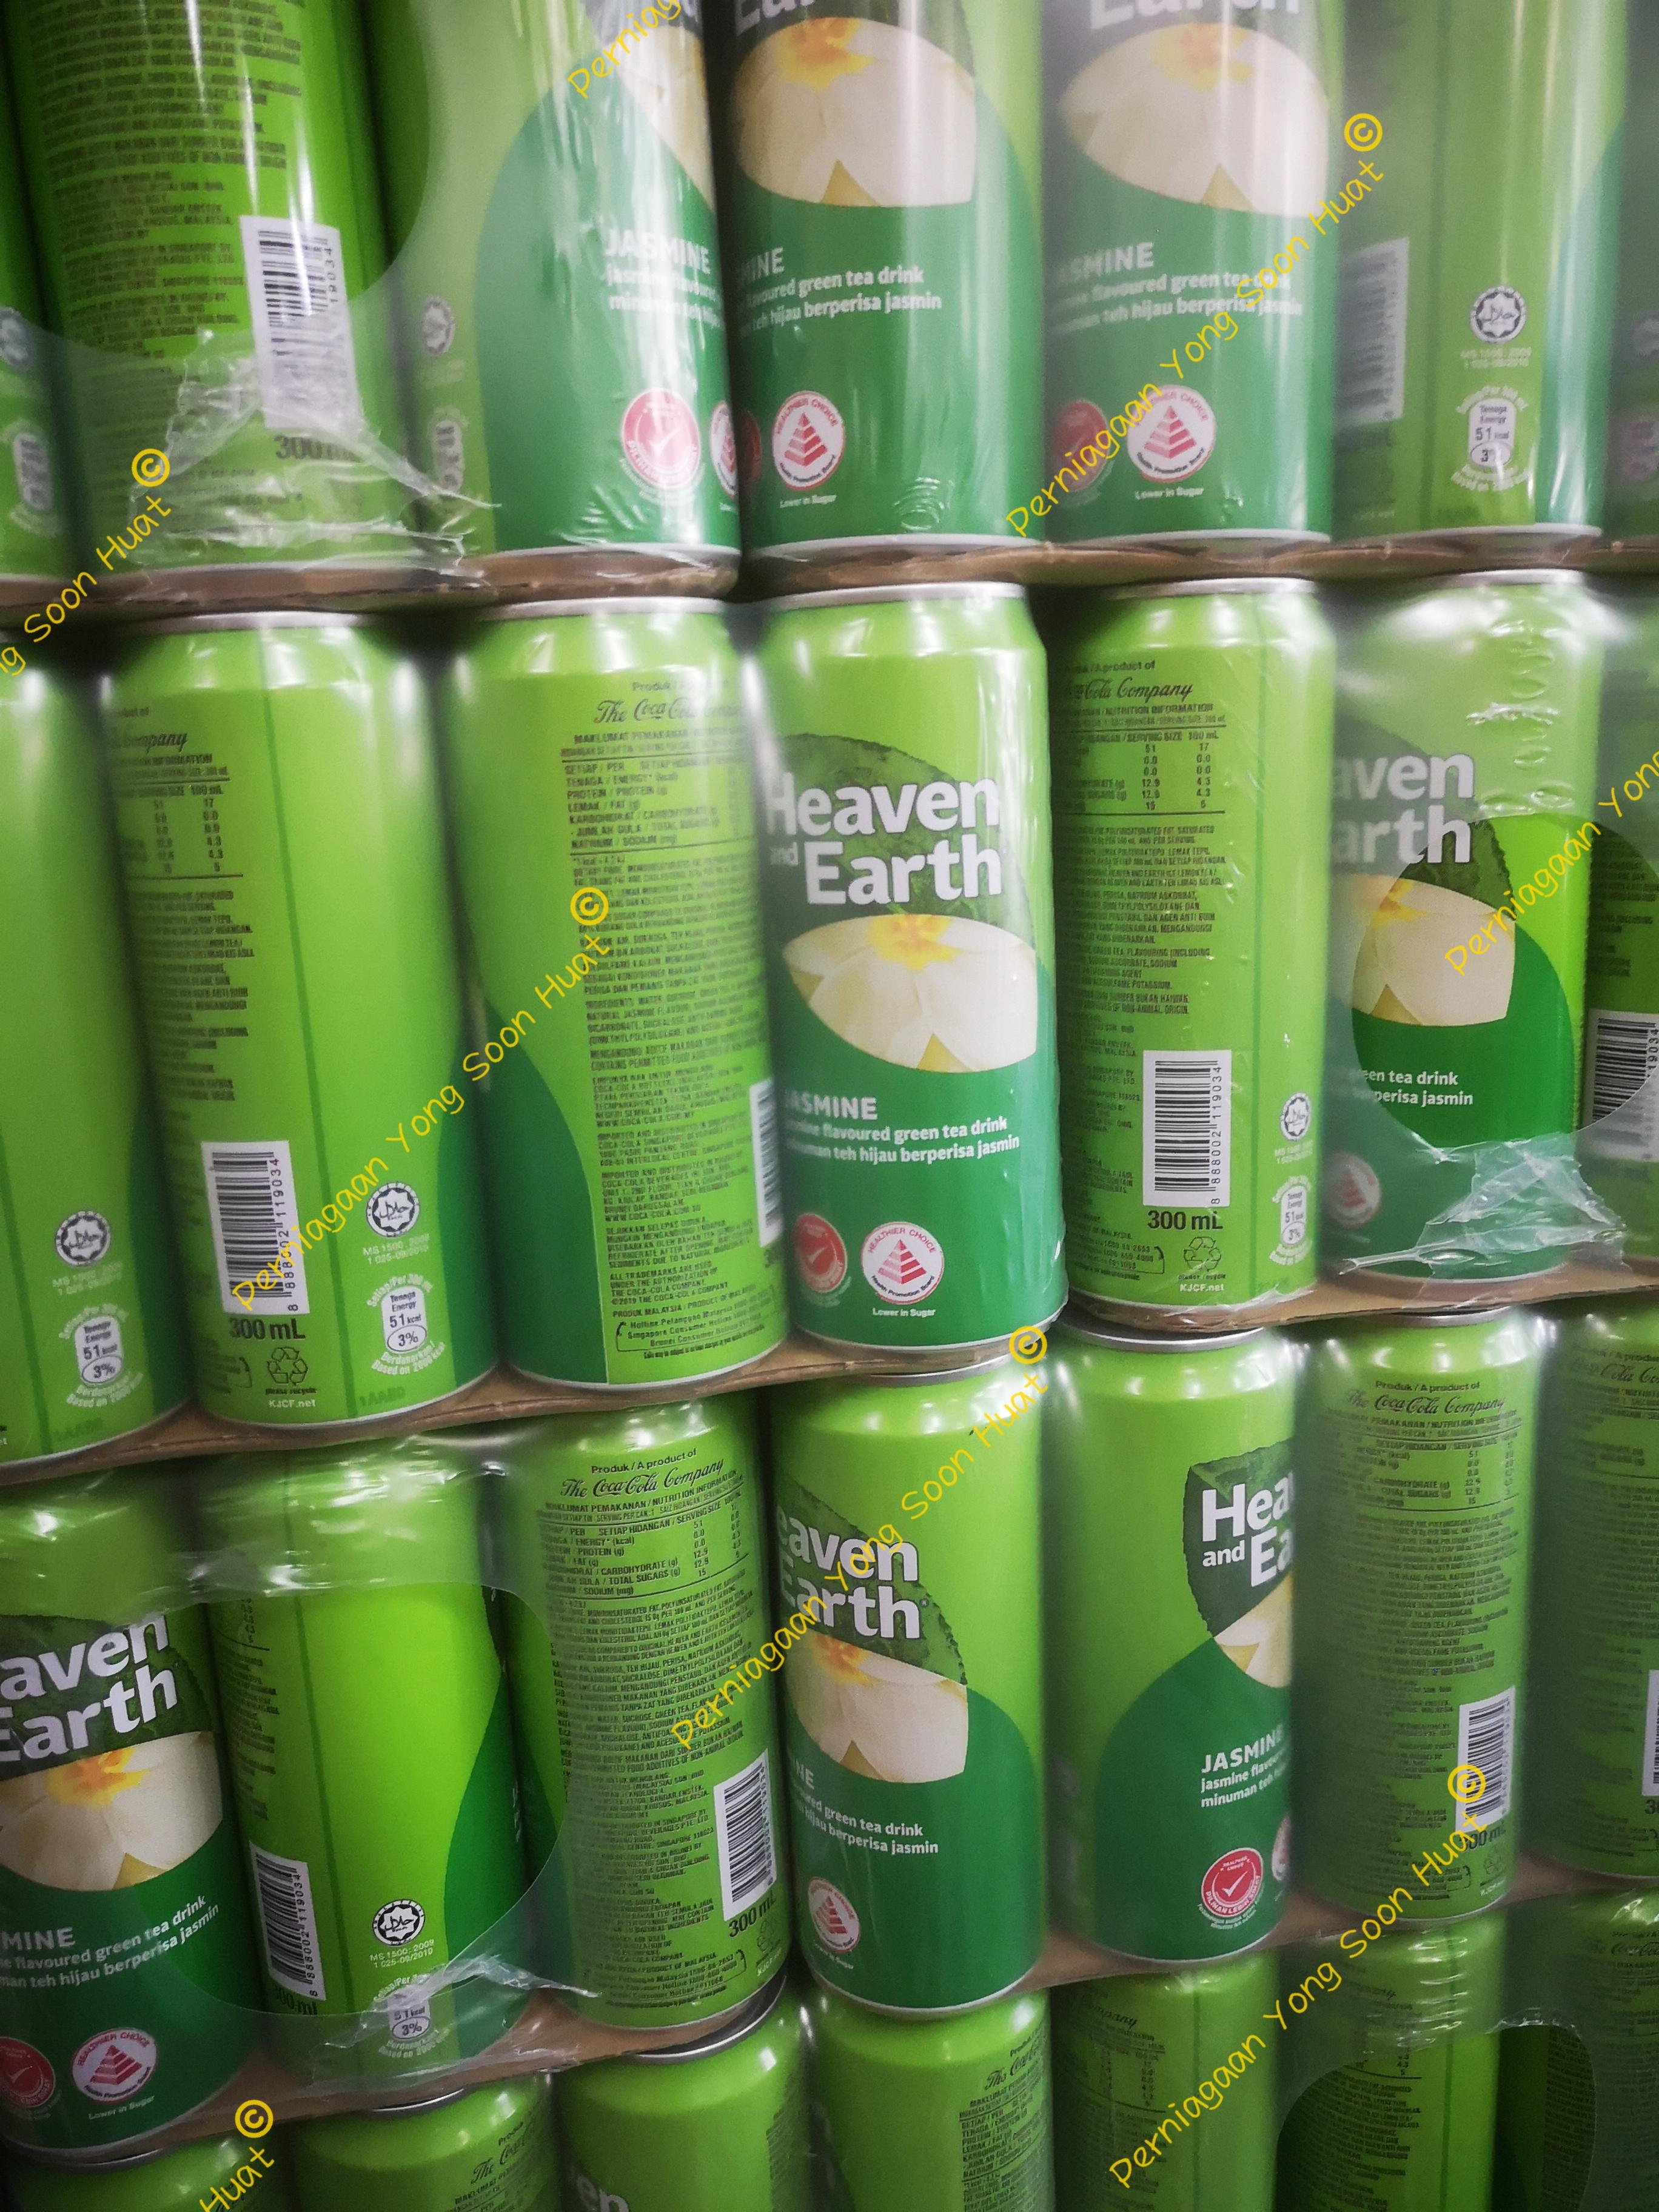metal: (5, 0, 1659, 2212)
